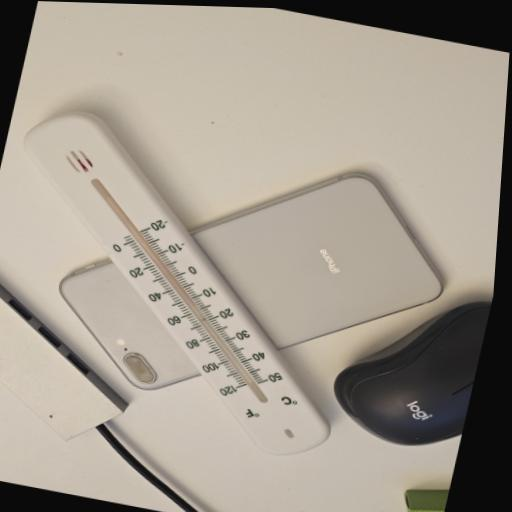thermometer: (0, 100, 393, 464)
